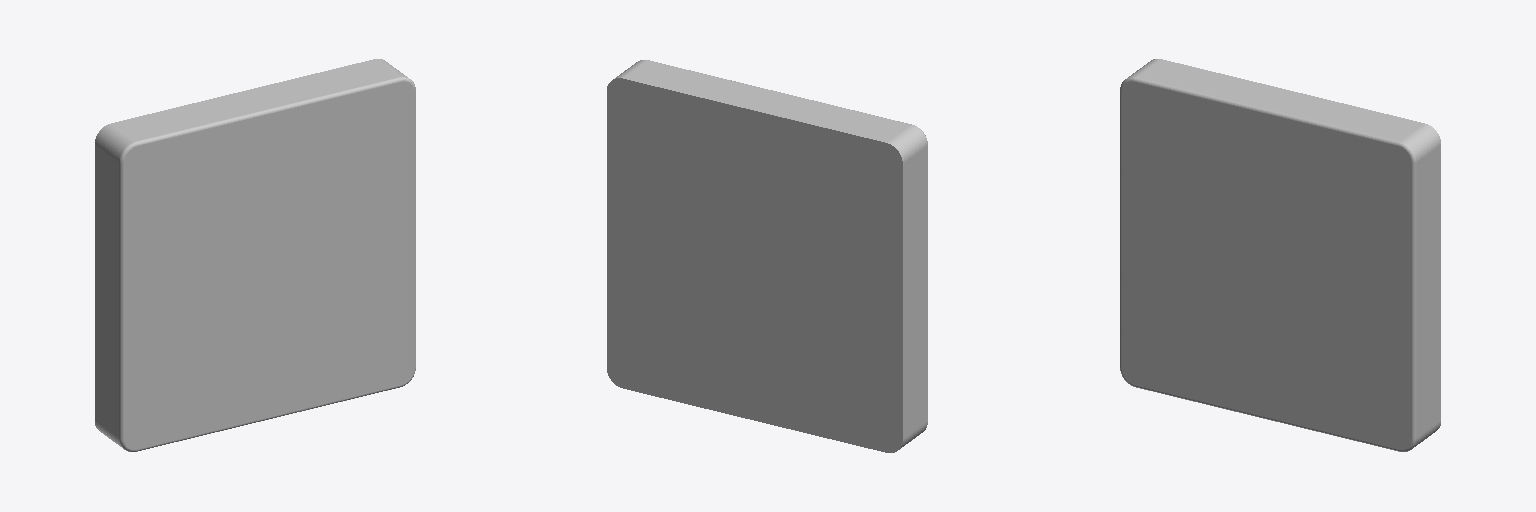
File: Button_top.obj
The picture shows the model from 3 angles: view 1: azimuth 30°, elevation 25°; view 2: azimuth 150°, elevation 25°; view 3: azimuth 330°, elevation 25°; orthographic projection.
Parts seen in each view (by area): view 1: Body2; view 2: Body2; view 3: Body2.
Part boxes in pixels (x1,y1,x2,y2): Body2: (95,59,415,451); Body2: (607,60,927,452); Body2: (1120,59,1440,451).
Size of the model in its own units: 45 by 45 by 7.